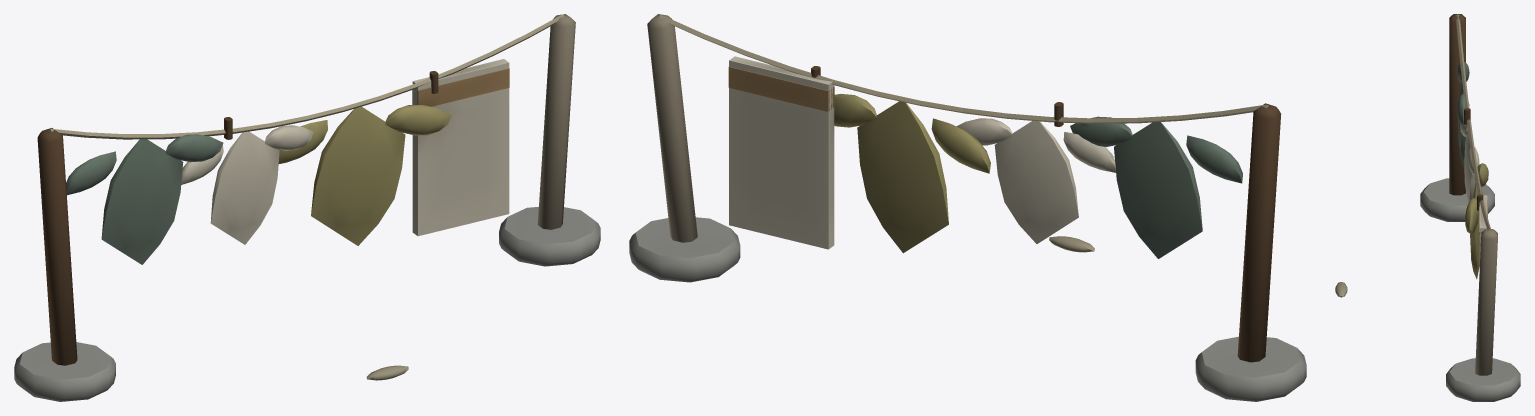
File: laundry_line_a.glb
3 renders of one model, left to right at view 1: azimuth 30°, elevation 25°; view 2: azimuth 150°, elevation 25°; view 3: azimuth 270°, elevation 25°, orthographic. The views are drawn at different scales.
Parts seen in each view (by area): view 1: Surface; view 2: Surface; view 3: Surface.
Boxes of the visible parts, x1,y1,x2,y2 form: Surface: [14, 14, 600, 401]; Surface: [629, 14, 1306, 401]; Surface: [1335, 14, 1520, 401].
Bounding box in the file's own units: 4.45 × 1.86 × 1.65.
